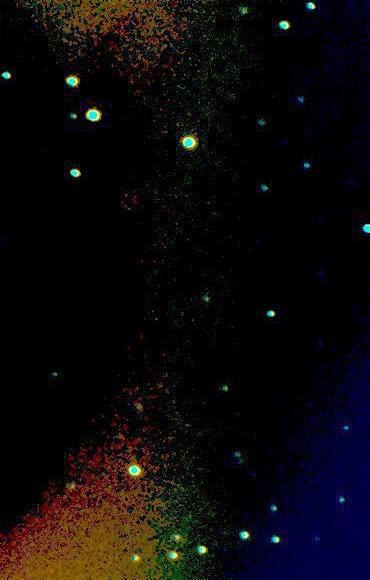star: (39, 90, 69, 120)
